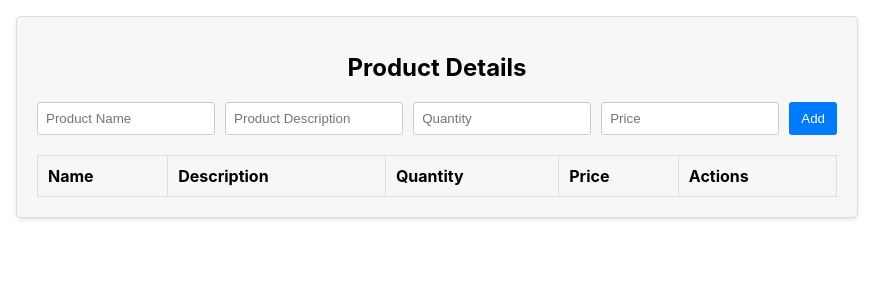
Test: App › displaying the error message for the empty input fields › displays_an_error_message_when_adding_a_product_with_empty_fields
Click the button "Add" at (813, 119), box [789,102,837,135]
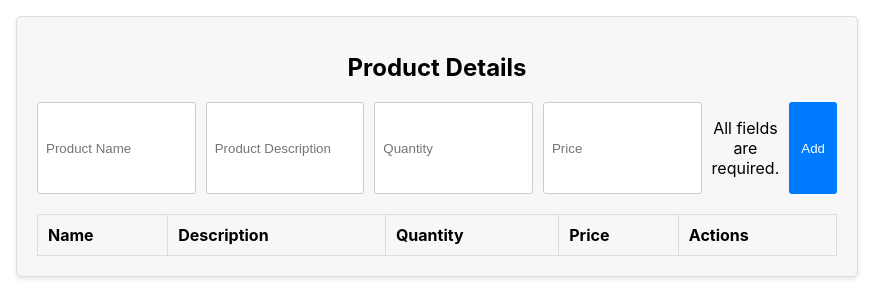
Expected: the text "All fields are required." is shown, [712,118,779,178]
